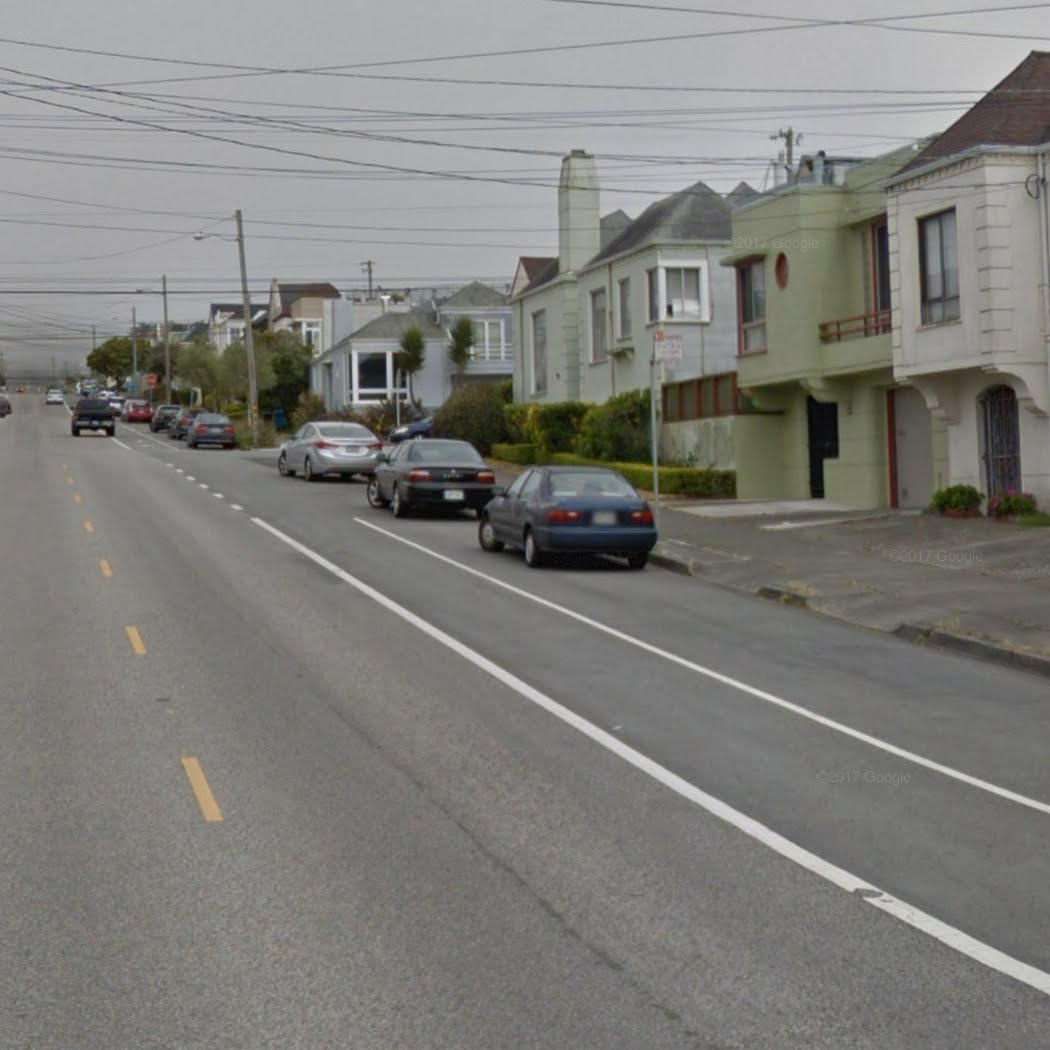No Parking: (652, 329, 684, 363)
